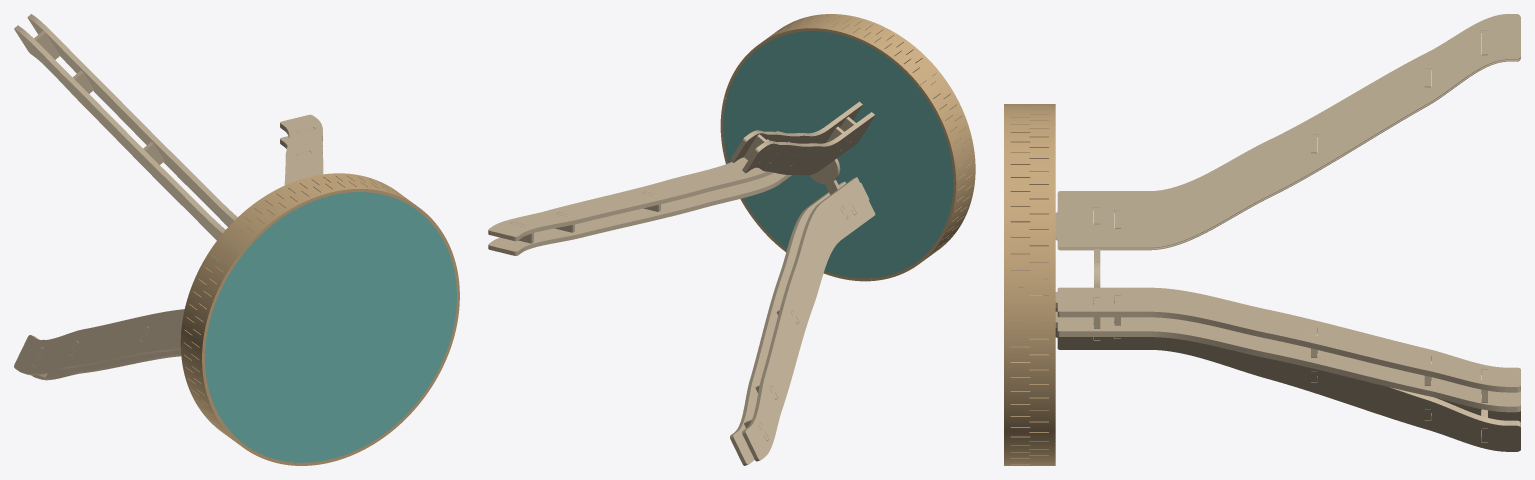
File: B-actual-DESIGN_ONLY.glb
The picture shows the model from 3 angles, left to right: view 1: azimuth 30°, elevation 25°; view 2: azimuth 150°, elevation 25°; view 3: azimuth 270°, elevation 25°; orthographic projection. The views are drawn at different scales.
Parts seen in each view (by area): view 1: P07T, L3_P01_1, P07R2, P07R1, L2_P01_2, L2_P01_1, L1_P01_2, L3_P01_2, P07R3; view 2: P07B, L3_P01_1, L1_P01_2, P07R2, L1_P01_1, P07R1, L2_P01_2, L3_P01_2, L2_P01_1, P03, P07R3; view 3: L2_P01_1, L1_P01_2, P07R1, L3_P01_2, L1_P01_1, P07R3, L2_P01_2, P03.
Part boxes in pixels (bbox=[...]): P07T: bbox=[205, 192, 456, 462]; L3_P01_1: bbox=[14, 309, 184, 375]; P07R2: bbox=[180, 236, 295, 465]; P07R1: bbox=[221, 173, 455, 265]; L2_P01_2: bbox=[14, 25, 225, 240]; L2_P01_1: bbox=[27, 14, 237, 226]; L1_P01_2: bbox=[280, 114, 323, 185]; L3_P01_2: bbox=[31, 339, 181, 380]; P07R3: bbox=[294, 265, 459, 465]; P07B: bbox=[723, 31, 953, 278]; L3_P01_1: bbox=[742, 177, 875, 461]; L1_P01_2: bbox=[488, 131, 783, 241]; P07R2: bbox=[871, 71, 975, 280]; L1_P01_1: bbox=[488, 172, 791, 255]; P07R1: bbox=[724, 14, 938, 98]; L2_P01_2: bbox=[742, 112, 874, 175]; L3_P01_2: bbox=[730, 181, 845, 465]; L2_P01_1: bbox=[730, 101, 862, 162]; P03: bbox=[809, 116, 856, 214]; P07R3: bbox=[720, 97, 871, 281]; L2_P01_1: bbox=[1055, 14, 1520, 248]; L1_P01_2: bbox=[1029, 287, 1520, 392]; P07R1: bbox=[1004, 104, 1055, 320]; L3_P01_2: bbox=[1055, 321, 1520, 451]; L1_P01_1: bbox=[1055, 311, 1520, 412]; P07R3: bbox=[1004, 312, 1055, 465]; L2_P01_2: bbox=[1055, 31, 1520, 250]; P03: bbox=[1094, 207, 1100, 340].
Size of the model in its own units: 0.437 by 0.4673 by 0.5.
